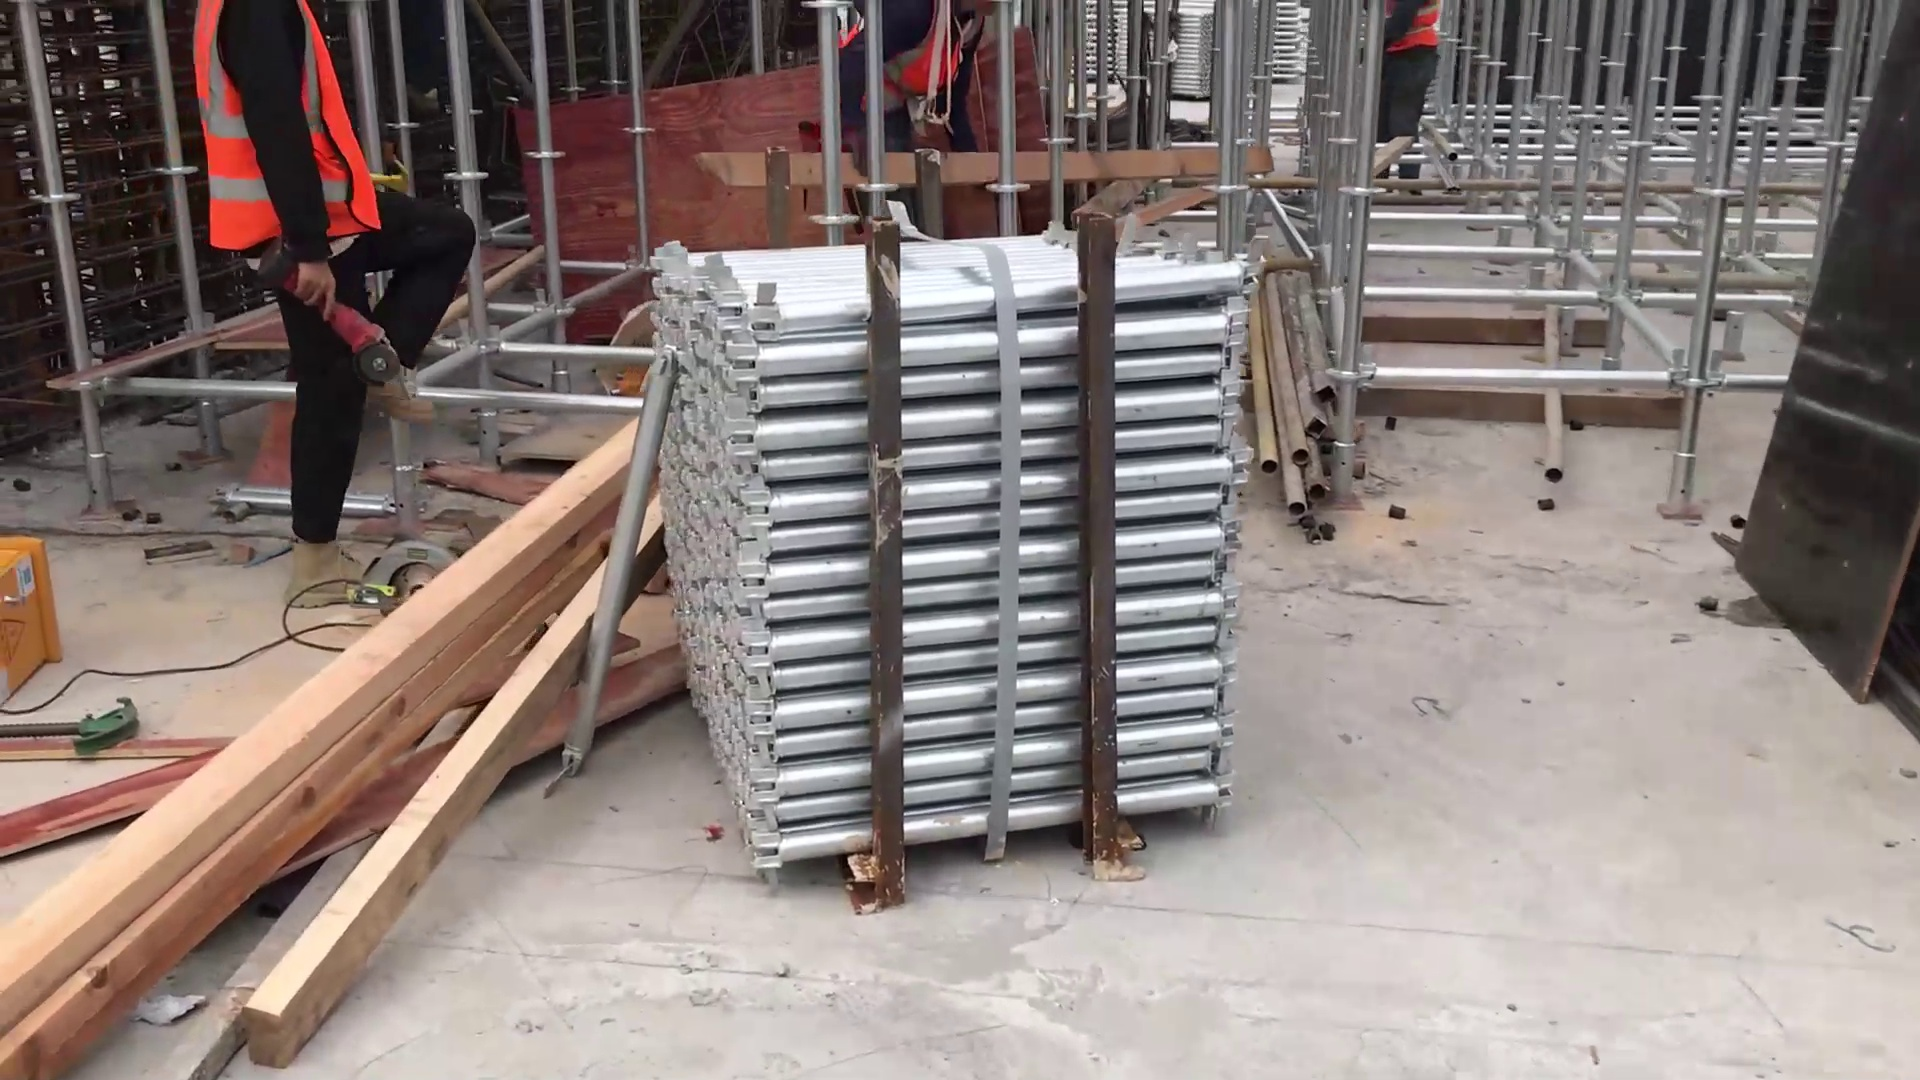cutter: (349, 535, 462, 605)
ebox: (1, 524, 55, 726)
person: (192, 1, 482, 623), (806, 1, 1040, 159), (1373, 4, 1449, 216)
scaffold: (655, 198, 1254, 904)
vest: (200, 1, 385, 274), (842, 1, 966, 118), (1377, 1, 1438, 70)
wood: (48, 482, 670, 1067)
